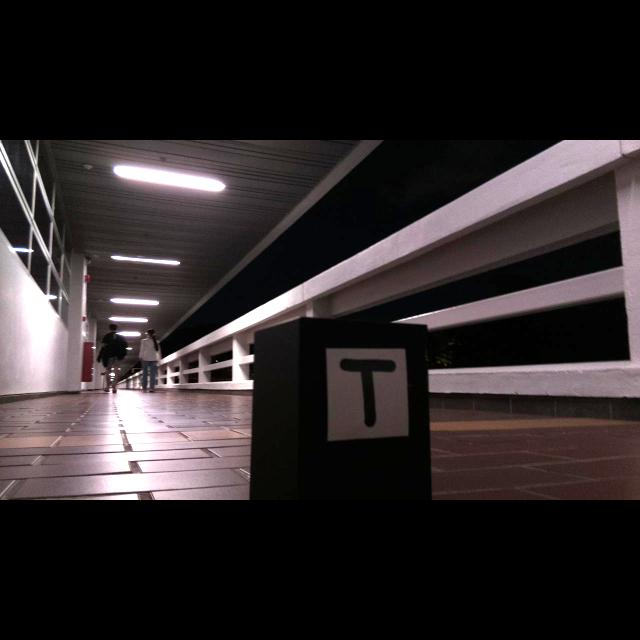T: (339, 359, 396, 429)
